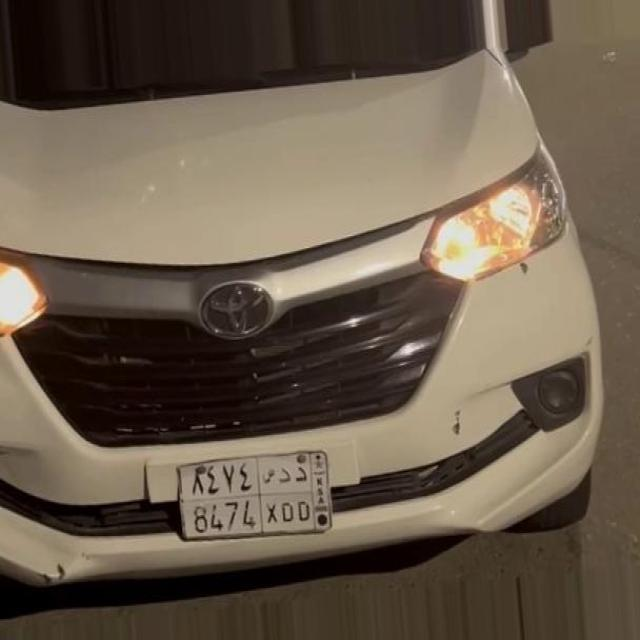Car-plate: (161, 432, 346, 550)
